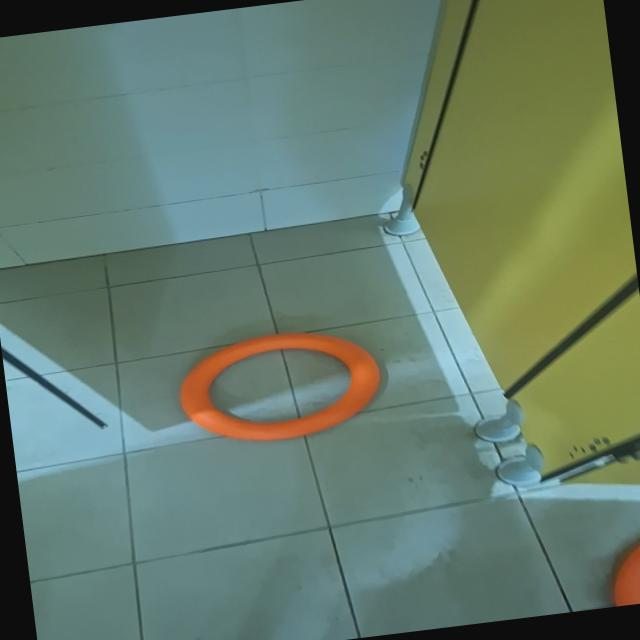note: (170, 320, 388, 452), (603, 523, 640, 606)
